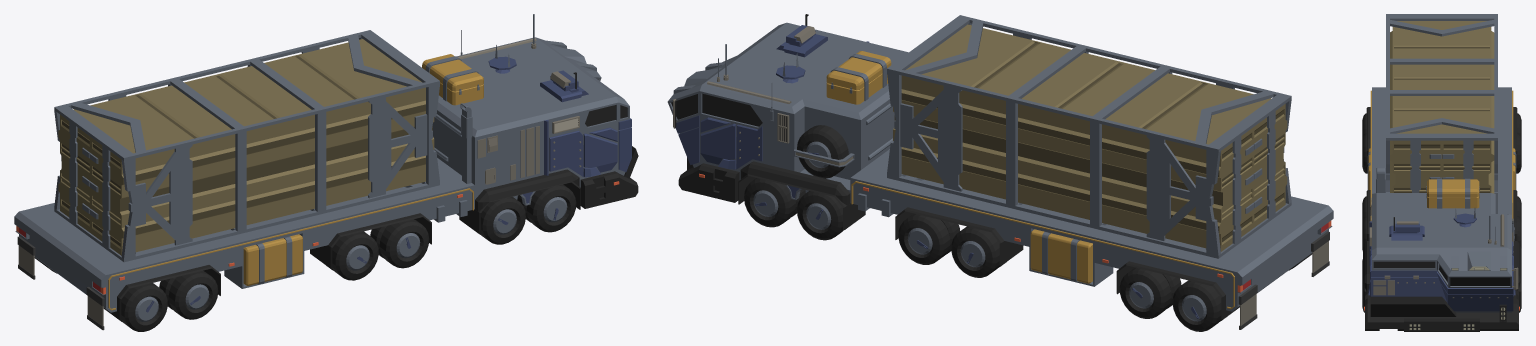
The model's file is truck01.fbx.
3 renders of one model, left to right at view 1: azimuth 30°, elevation 25°; view 2: azimuth 150°, elevation 25°; view 3: azimuth 270°, elevation 25°, orthographic. The views are drawn at different scales.
Visible parts, largest first — view 1: truck01; view 2: truck01; view 3: truck01.
Boxes of the visible parts, x1=… form: truck01: x1=14, y1=14, x2=638, y2=331; truck01: x1=667, y1=14, x2=1333, y2=331; truck01: x1=1362, y1=14, x2=1521, y2=331.
Bounding box in the file's own units: 1018 × 296 × 319.
